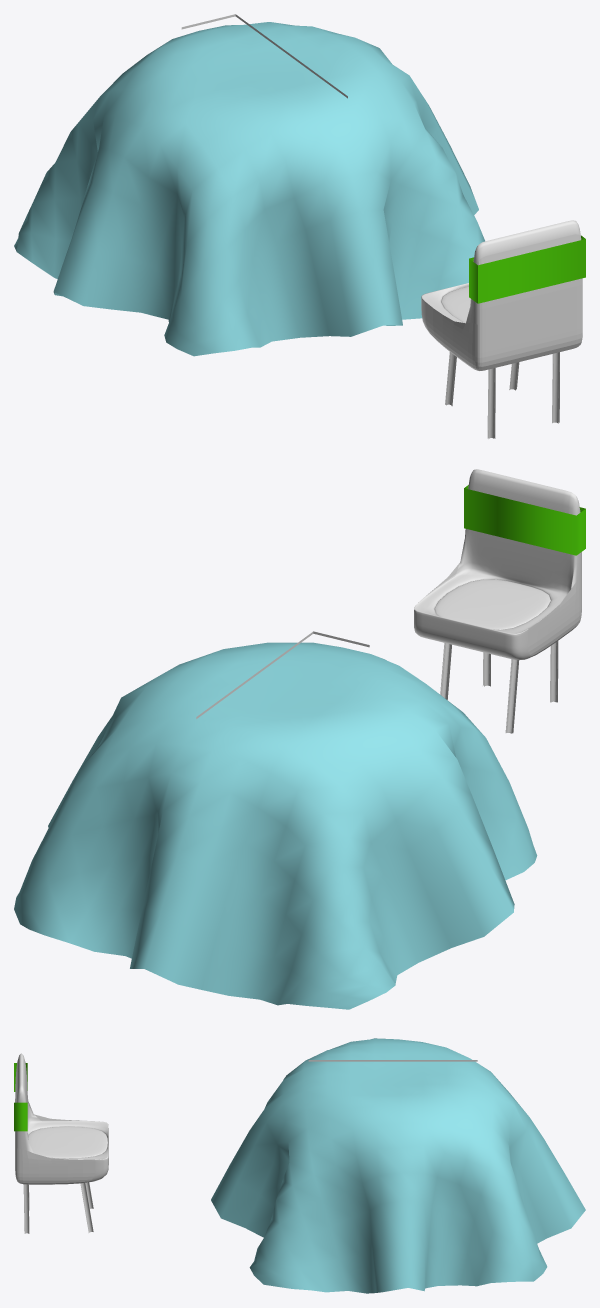
Rendered from tableTest2.gltf.
The picture shows the model from 3 angles, top to bottom: view 1: azimuth 30°, elevation 25°; view 2: azimuth 150°, elevation 25°; view 3: azimuth 270°, elevation 25°; orthographic projection. The views are drawn at different scales.
Parts seen in each view (by area): view 1: TableCloth, Chair.001, Chairrunner; view 2: TableCloth, Chair.001, Chairrunner; view 3: TableCloth, Chair.001, Chairrunner.
Part boxes in pixels (x1=…): TableCloth: x1=14, y1=22, x2=484, y2=356; Chair.001: x1=421, y1=220, x2=582, y2=438; Chairrunner: x1=469, y1=235, x2=585, y2=303; TableCloth: x1=14, y1=642, x2=537, y2=1009; Chair.001: x1=414, y1=469, x2=581, y2=733; Chairrunner: x1=464, y1=485, x2=585, y2=555; TableCloth: x1=211, y1=1038, x2=585, y2=1293; Chair.001: x1=15, y1=1053, x2=108, y2=1233; Chairrunner: x1=14, y1=1063, x2=27, y2=1131.
Bounding box in the file's own units: 200 × 105 × 305.
